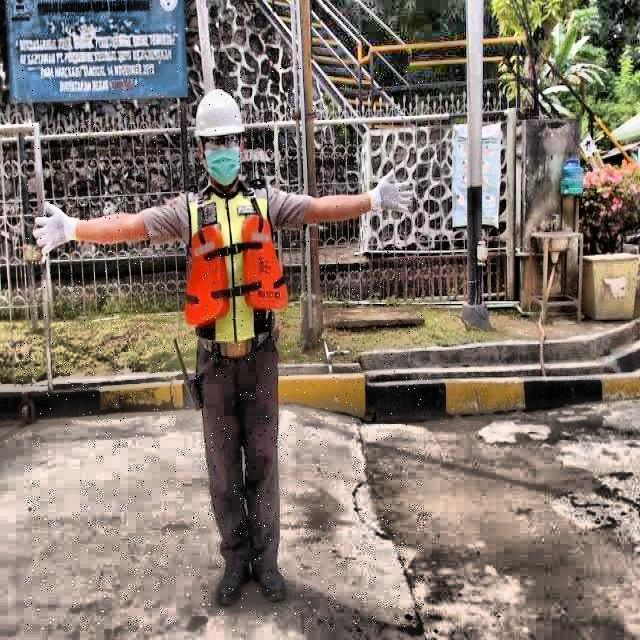safety_helmet: (189, 83, 254, 149)
safety_jacket: (182, 180, 292, 344)
